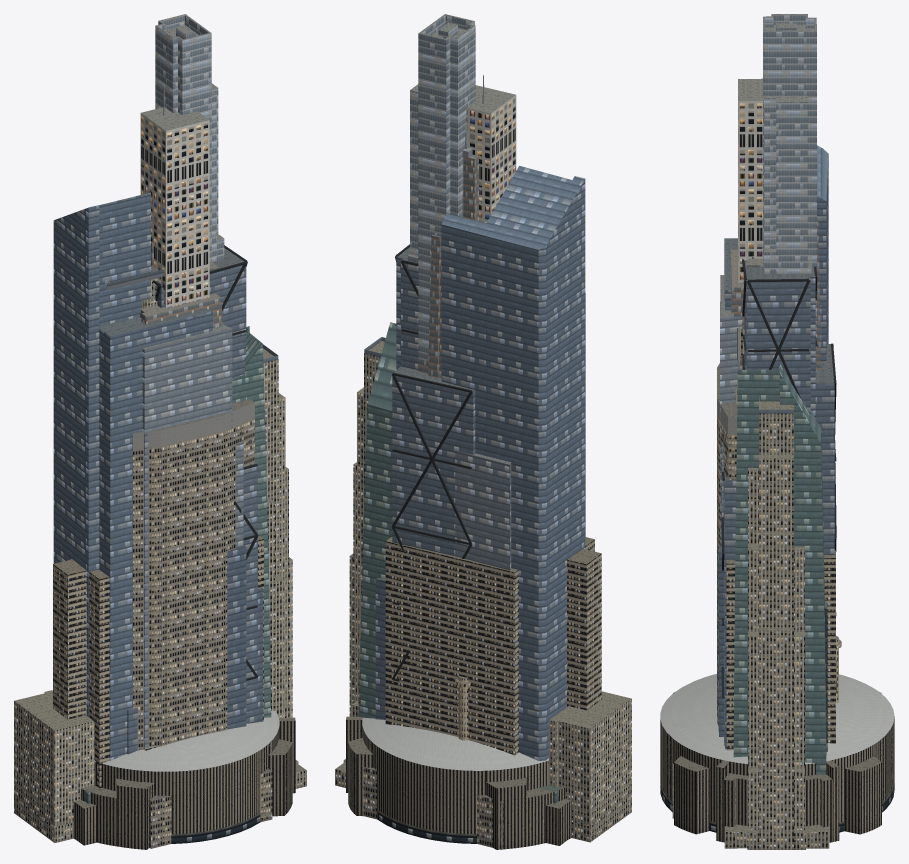
The model's file is landmarks4.glb.
The picture shows the model from 3 angles, left to right: view 1: azimuth 30°, elevation 25°; view 2: azimuth 150°, elevation 25°; view 3: azimuth 270°, elevation 25°; orthographic projection. The views are drawn at different scales.
Visible parts, largest first — view 1: hudson_yards_30, metlife, madison_square_garden, rockefeller_30, park_432, wtc_4, marriott_marquis, wtc_3, central_park_tower, bank_of_america_tower, times_square_4, one_vanderbilt (+1 smaller); view 2: hudson_yards_30, marriott_marquis, madison_square_garden, wtc_3, rockefeller_30, central_park_tower, bank_of_america_tower, wtc_7, park_432, one_vanderbilt, metlife, flatiron; view 3: rockefeller_30, madison_square_garden, bank_of_america_tower, central_park_tower, wtc_3, park_432, marriott_marquis, hudson_yards_30, metlife, wtc_4, one_vanderbilt, times_square_4.
Part boxes in pixels (x1,y1,x2,y2): hudson_yards_30: (53,192,263,760); metlife: (133,399,272,848); madison_square_garden: (73,710,295,849); rockefeller_30: (14,344,306,842); park_432: (140,107,209,308); wtc_4: (142,324,232,747); marriott_marquis: (53,536,263,788); wtc_3: (127,245,258,754); central_park_tower: (155,14,224,262); bank_of_america_tower: (83,326,271,803); times_square_4: (227,545,246,729); one_vanderbilt: (139,242,222,327); hudson_yards_30: (375,166,585,760); marriott_marquis: (385,537,601,755); madison_square_garden: (346,716,571,849); wtc_3: (391,244,475,681); rockefeller_30: (335,337,631,842); central_park_tower: (408,14,475,360); bank_of_america_tower: (359,322,562,803); wtc_7: (455,451,511,570); park_432: (466,85,516,222); one_vanderbilt: (417,121,478,377); metlife: (363,767,503,849); flatiron: (455,675,470,740); rockefeller_30: (724,397,829,849); madison_square_garden: (660,674,894,842); bank_of_america_tower: (733,364,826,774); central_park_tower: (763,14,816,349); wtc_3: (721,259,836,745); park_432: (738,78,762,283); marriott_marquis: (726,550,835,750); hudson_yards_30: (724,145,828,751); metlife: (672,363,737,818); wtc_4: (720,275,821,545); one_vanderbilt: (730,221,821,387); times_square_4: (718,543,723,736).
Size of the model in its own units: 163 by 472 by 129.
16 materials, 16 textured.
